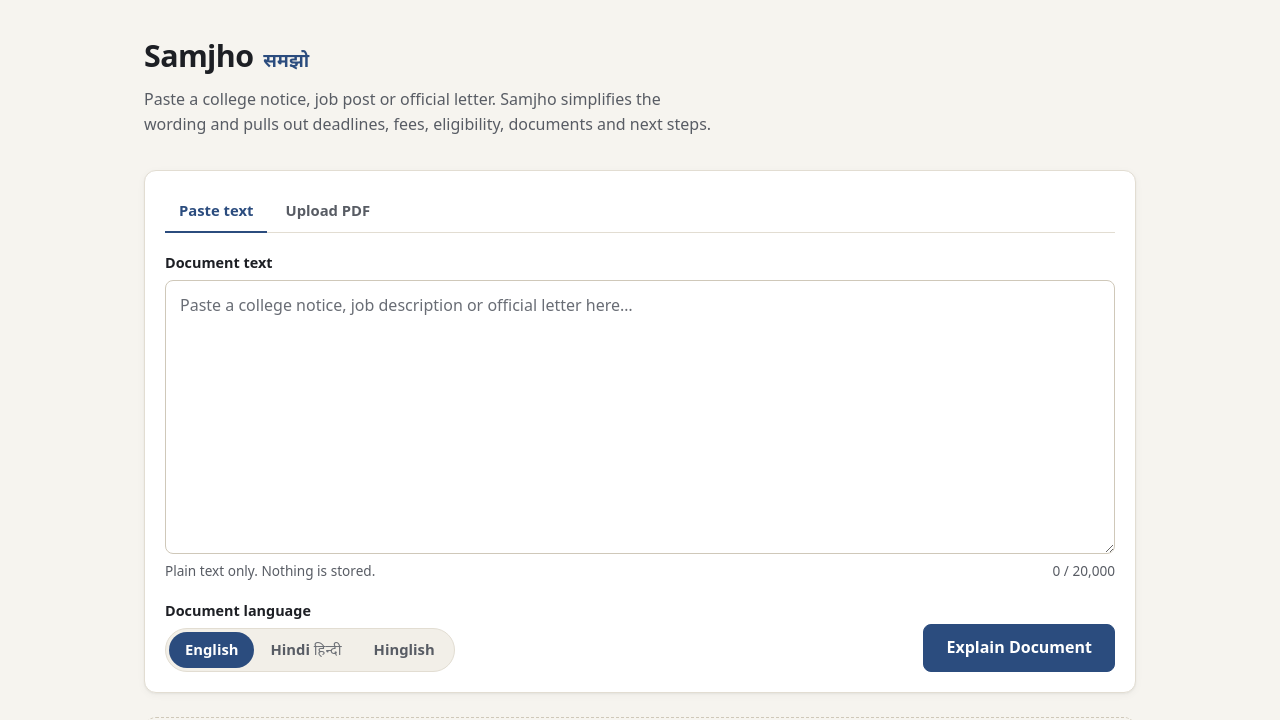
Test: results › renders every section from the backend response
Step 1. Click the text box labelled "Document text" → (640, 416), box 165,280 -> 1115,554
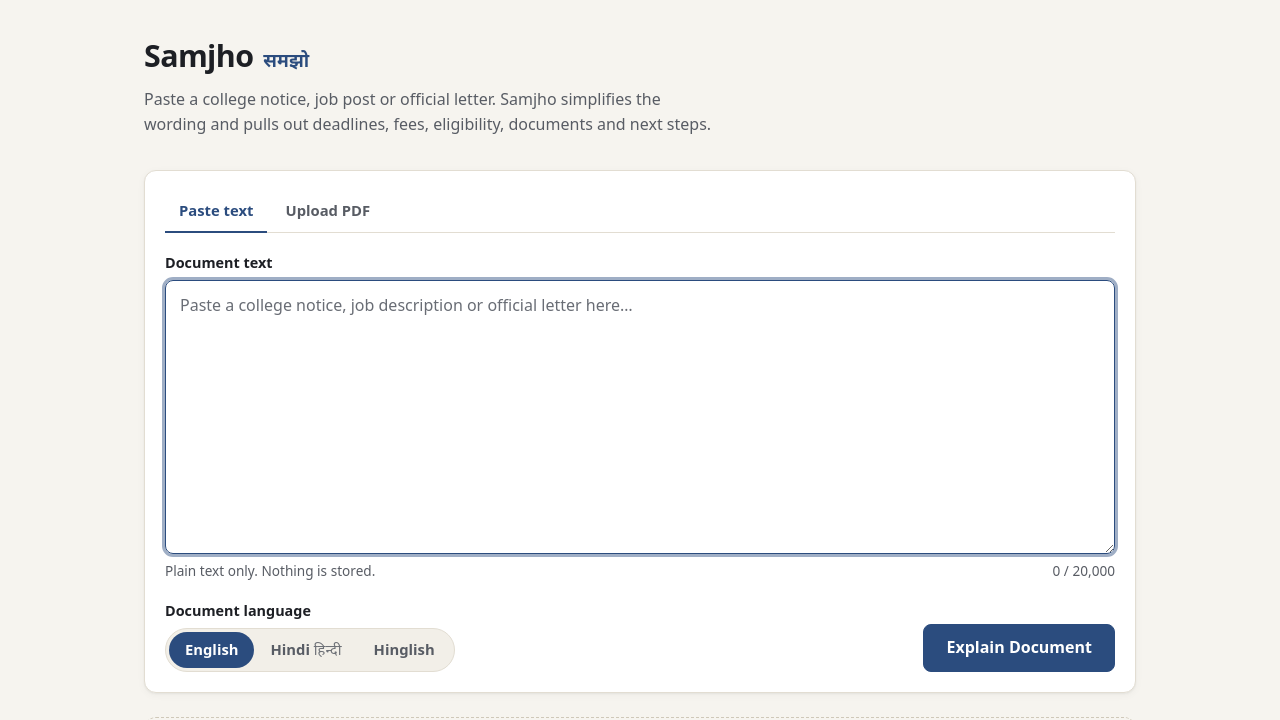
Step 2. Type keys "Students with at least 60% marks must submit their resume by 15 November 2026. The application fee is ₹500. The library opens at 9 AM."
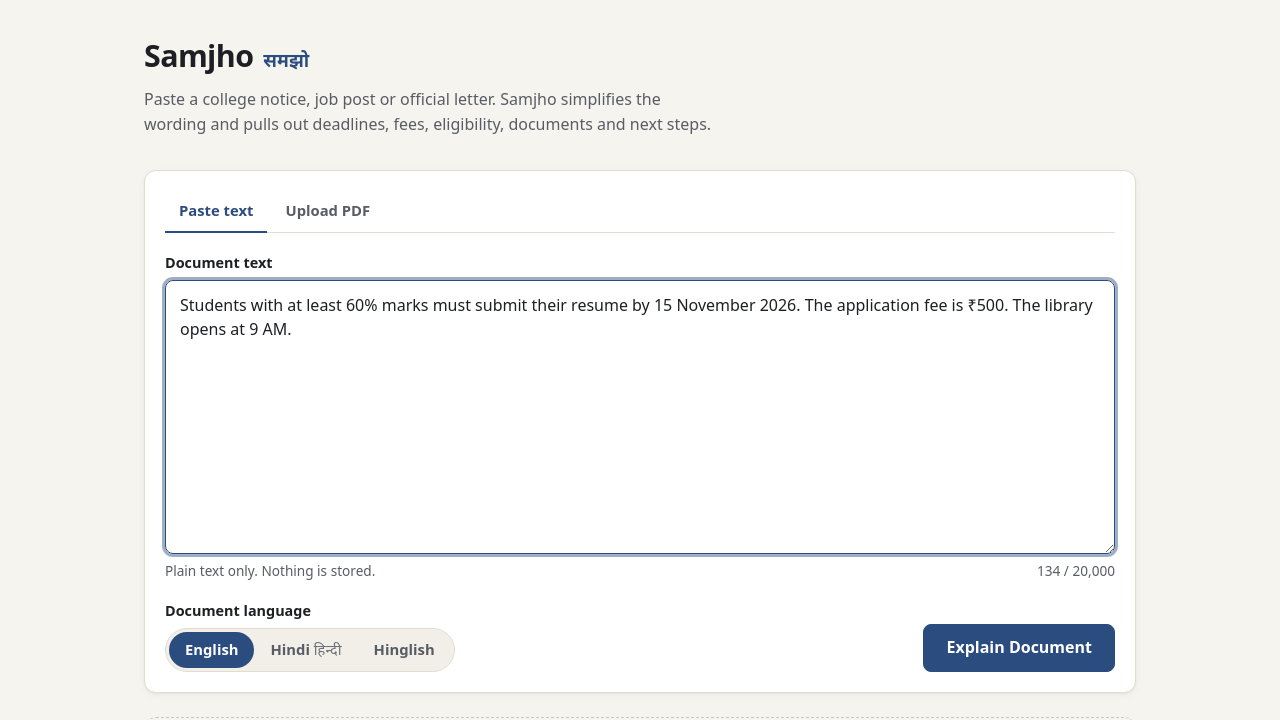
Step 3. Click the button "Explain Document" → (1019, 648), box 924,624 -> 1115,672
(page scrolled)
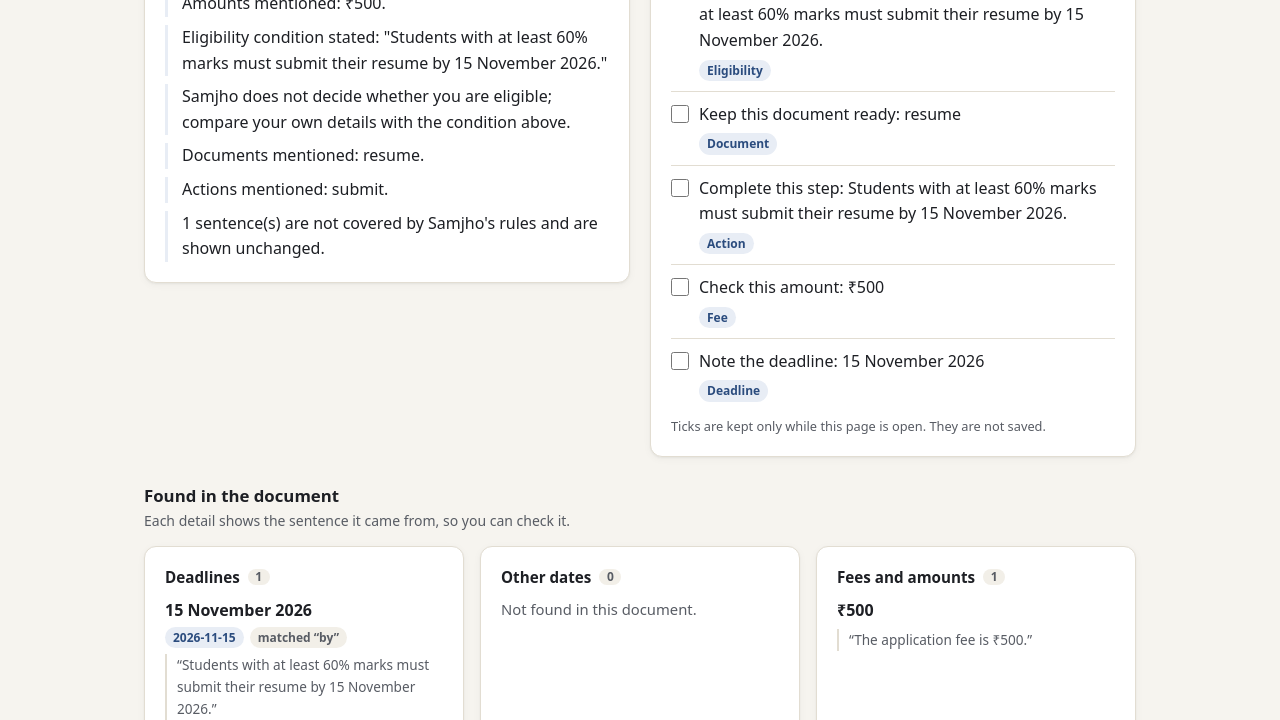
Result: the list item "Eligibility condition stated: \"Students with at least 60% marks must submit their resume by 15 November 2026.\"" is shown at 182,26 -> 607,74
Result: the list item "Samjho does not decide whether you are eligible; compare your own details with the condition above." is shown at 182,85 -> 571,133
Result: the list item "Documents mentioned: resume." is shown at 165,143 -> 609,169
